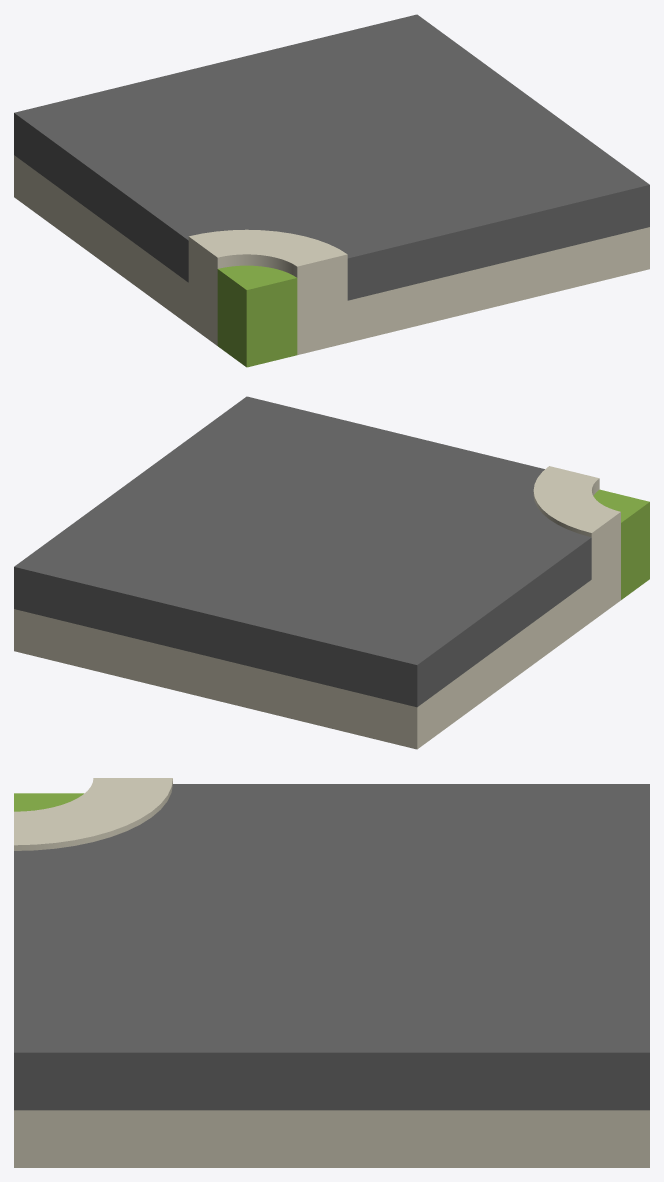
The model's file is tile189.dae.
3 renders of one model, top to bottom at view 1: azimuth 30°, elevation 25°; view 2: azimuth 150°, elevation 25°; view 3: azimuth 270°, elevation 25°, orthographic. The views are drawn at different scales.
Parts seen in each view (by area): view 1: tile189; view 2: tile189; view 3: tile189.
Part boxes in pixels (box(x1,y1,x2,y2)): tile189: box(14, 14, 649, 367); tile189: box(14, 396, 649, 749); tile189: box(14, 778, 649, 1167).
Size of the model in its own units: 1 by 0.21 by 1.
